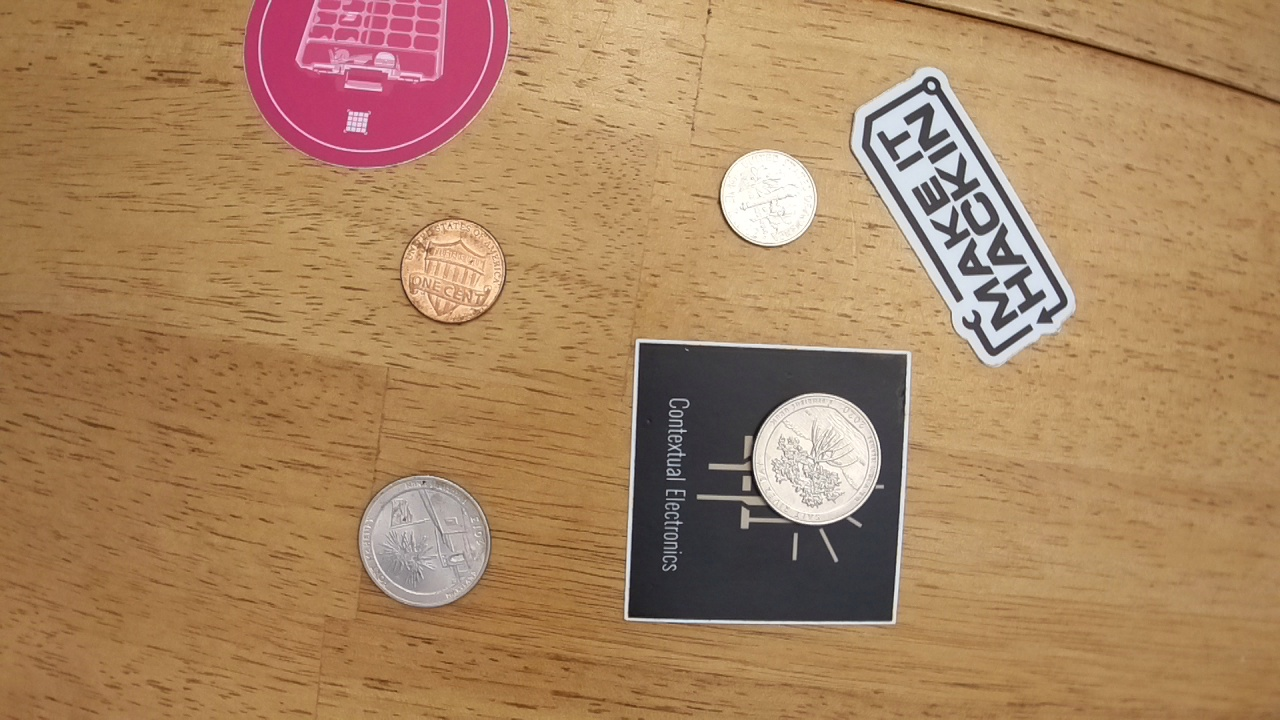dime: (716, 146, 820, 252)
penny: (396, 214, 510, 328)
quarter: (356, 471, 492, 611), (750, 387, 880, 531)
